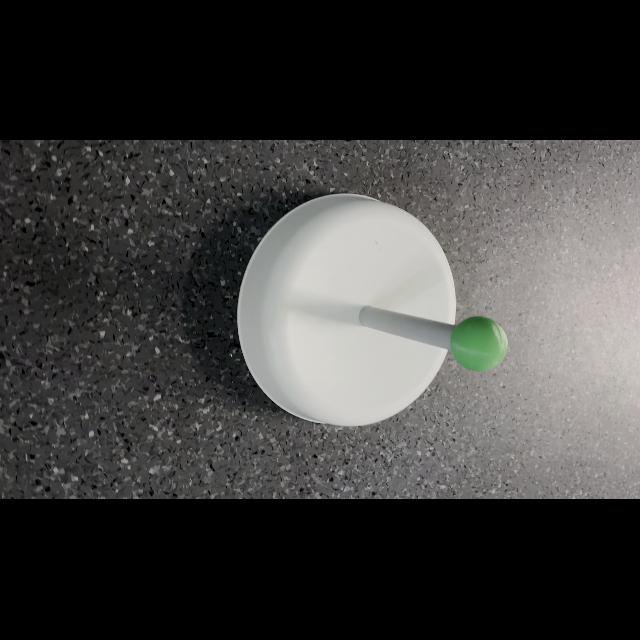objects: (446, 314, 514, 374)
